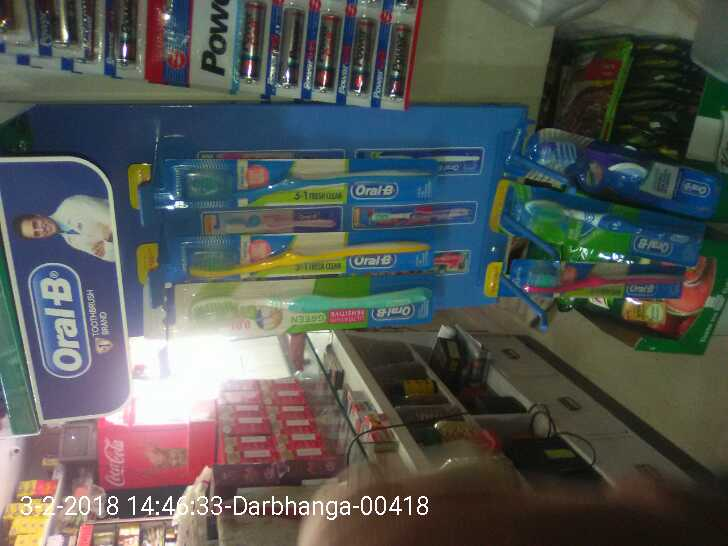oralb: (505, 123, 714, 214), (496, 176, 702, 266), (136, 161, 436, 207), (145, 278, 431, 326), (132, 231, 434, 274), (489, 261, 693, 300)
